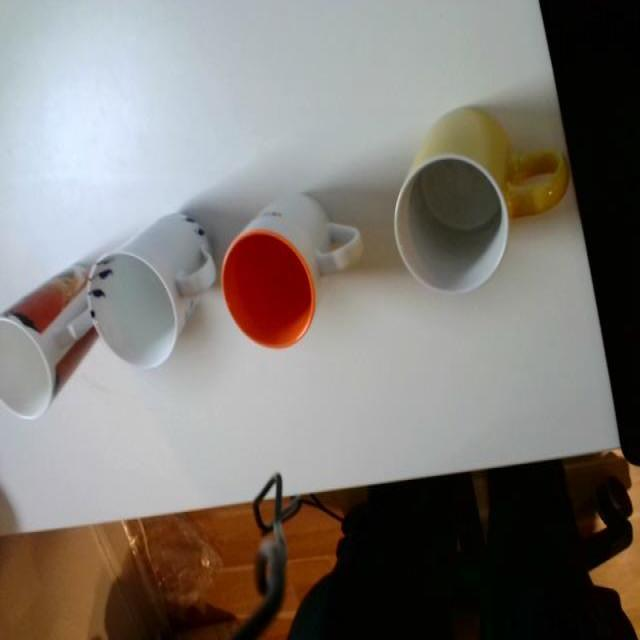cup: (389, 93, 580, 340), (222, 167, 358, 373), (82, 200, 210, 367), (0, 230, 66, 445)
